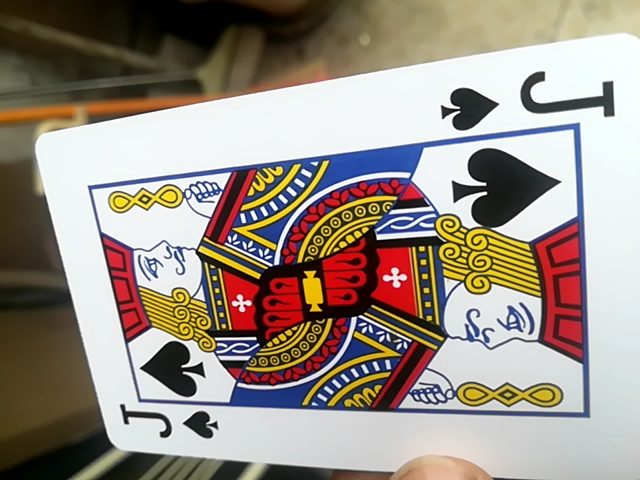ht j: (24, 45, 640, 476)
